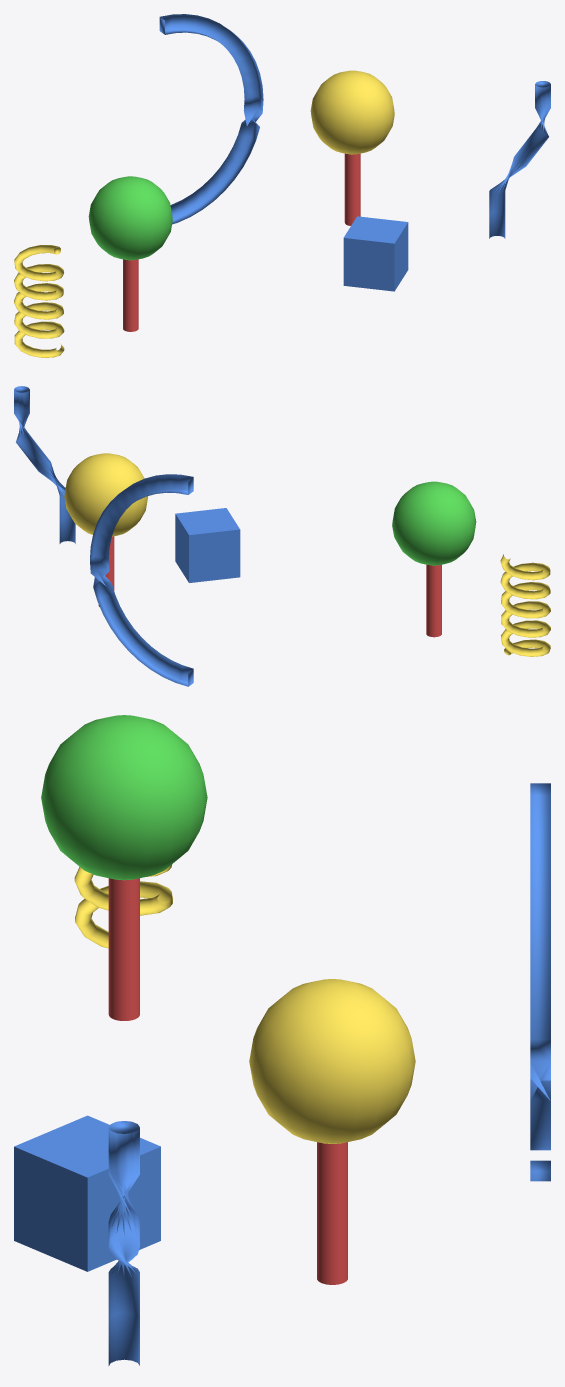
Rendered from features.glb.
3 renders of one model, top to bottom at view 1: azimuth 30°, elevation 25°; view 2: azimuth 150°, elevation 25°; view 3: azimuth 270°, elevation 25°, orthographic. The views are drawn at different scales.
Parts seen in each view (by area): view 1: crown1, crown2, Arch, PivotBox_origin, Spring, Pipe, trunk2, trunk1; view 2: Arch, crown1, crown2, PivotBox_origin, Spring, Pipe, trunk1; view 3: crown1, crown2, PivotBox_origin, Arch, Pipe, trunk1, trunk2, Spring.
Boxes of the visible parts, bbox=[...] form: crown1: bbox=[88, 176, 172, 260]; crown2: bbox=[310, 70, 394, 154]; Arch: bbox=[159, 14, 263, 224]; PivotBox_origin: bbox=[343, 216, 408, 291]; Spring: bbox=[14, 245, 64, 357]; Pipe: bbox=[489, 81, 550, 238]; trunk2: bbox=[344, 153, 360, 225]; trunk1: bbox=[123, 259, 138, 331]; Arch: bbox=[90, 474, 193, 686]; crown1: bbox=[392, 481, 476, 565]; crown2: bbox=[64, 453, 147, 536]; PivotBox_origin: bbox=[175, 508, 240, 582]; Spring: bbox=[500, 554, 550, 656]; Pipe: bbox=[14, 386, 75, 543]; trunk1: bbox=[426, 564, 441, 637]; crown1: bbox=[41, 715, 207, 880]; crown2: bbox=[249, 979, 415, 1143]; PivotBox_origin: bbox=[14, 1115, 160, 1271]; Arch: bbox=[530, 783, 550, 1181]; Pipe: bbox=[108, 1121, 139, 1365]; trunk1: bbox=[108, 878, 139, 1020]; trunk2: bbox=[317, 1142, 347, 1284]; Spring: bbox=[74, 864, 172, 948].
Size of what is drawn, in the model's own units: 11.63 by 4.3 by 5.16.
